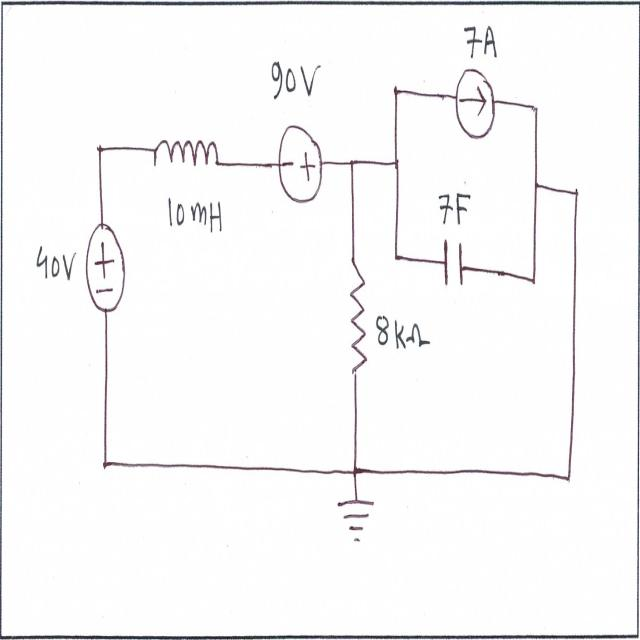current_source: (454, 66, 500, 146)
ground: (334, 496, 378, 552)
inductor: (151, 121, 221, 180)
resistor: (346, 248, 371, 386)
voltage_source: (82, 215, 127, 318), (277, 120, 326, 209)
